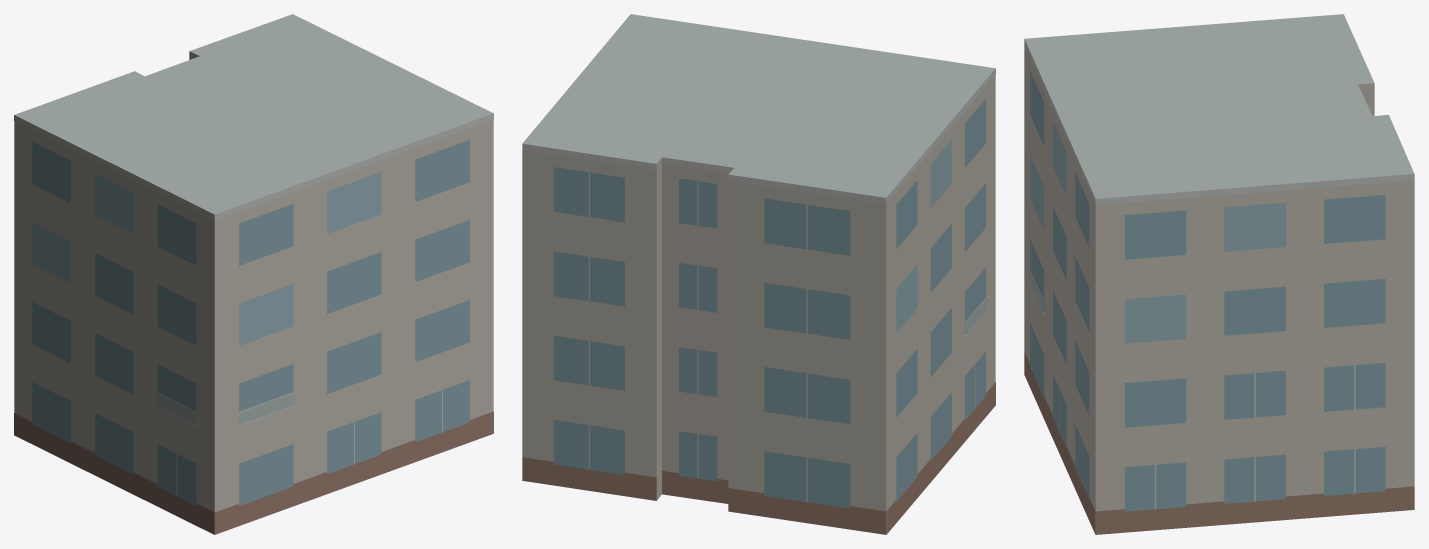
File: survey-upis-32738035.glb
3 renders of one model, left to right at view 1: azimuth 30°, elevation 25°; view 2: azimuth 150°, elevation 25°; view 3: azimuth 270°, elevation 25°, orthographic. The views are drawn at different scales.
Parts seen in each view (by area): view 1: survey-upis-32738035.tmp; view 2: survey-upis-32738035.tmp; view 3: survey-upis-32738035.tmp.
Boxes of the visible parts, bbox=[...] form: survey-upis-32738035.tmp: bbox=[14, 14, 493, 534]; survey-upis-32738035.tmp: bbox=[522, 14, 995, 534]; survey-upis-32738035.tmp: bbox=[1024, 14, 1414, 534].
Bounding box in the file's own units: 15.12 × 12.8 × 13.48.
